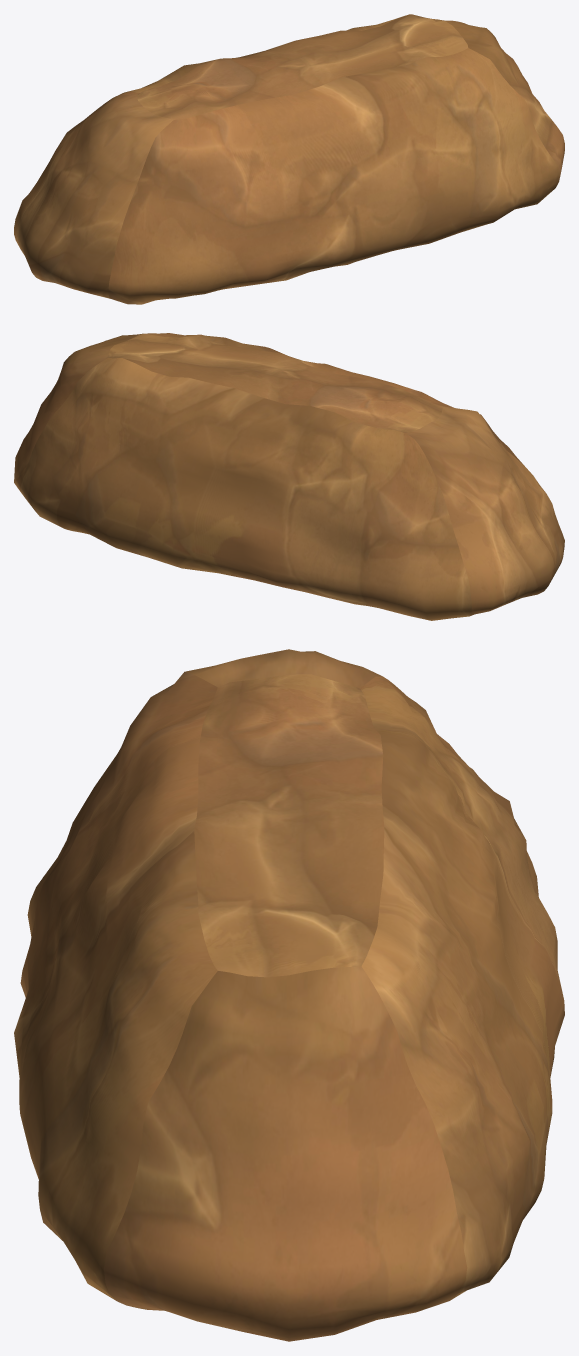
The model's file is Low_islands6.fbx.
The picture shows the model from 3 angles, top to bottom: view 1: azimuth 30°, elevation 25°; view 2: azimuth 150°, elevation 25°; view 3: azimuth 270°, elevation 25°; orthographic projection. The views are drawn at different scales.
Parts seen in each view (by area): view 1: Cube.005; view 2: Cube.005; view 3: Cube.005.
Part boxes in pixels (x1,y1,x2,y2): Cube.005: (14,14,564,304); Cube.005: (14,333,564,620); Cube.005: (14,649,564,1341).
Size of the model in its own units: 2462 by 802 by 1142.
Materials: 1 (1 with a texture image).
